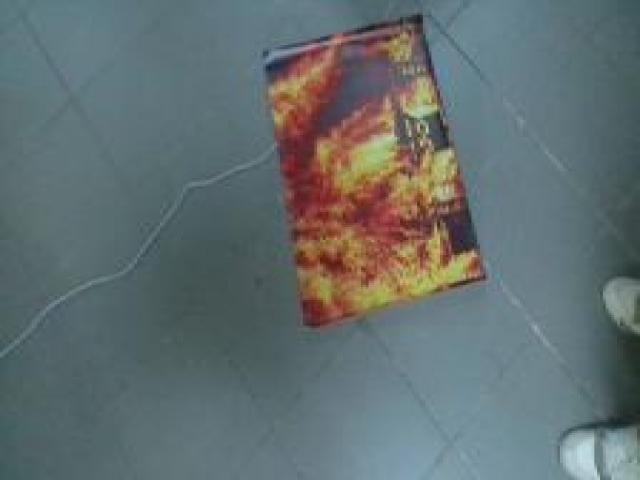fire-poster: (257, 13, 494, 330)
